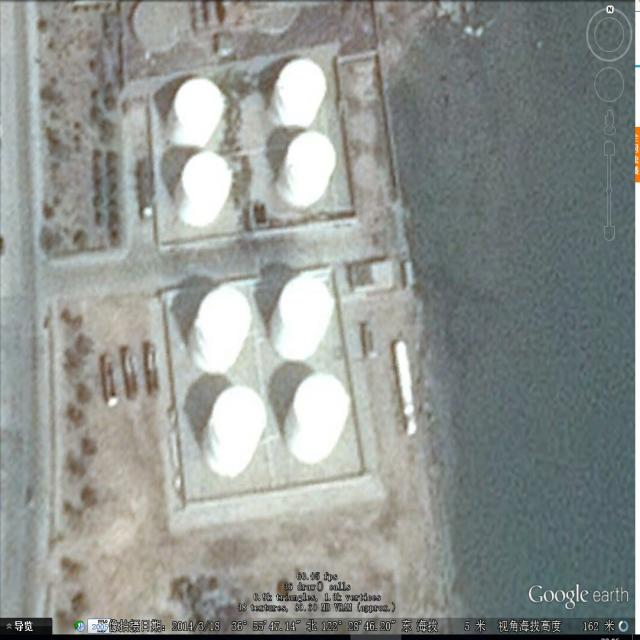oiltank: (197, 380, 272, 486), (281, 365, 353, 472), (181, 284, 257, 378), (265, 269, 337, 368), (272, 129, 341, 215), (160, 72, 229, 154), (171, 151, 236, 230), (267, 55, 330, 133)
